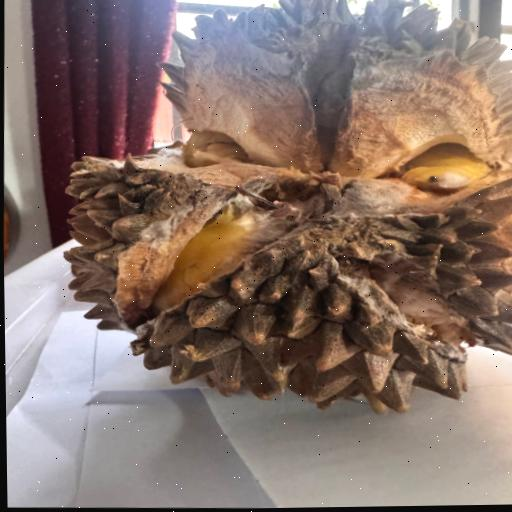mold: (82, 80, 487, 312)
rot: (20, 0, 512, 480)
